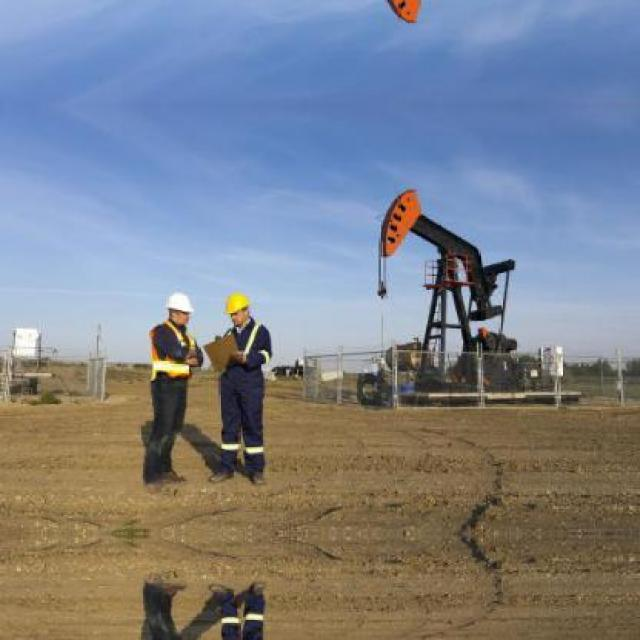Reflective-Jacket: (138, 318, 204, 392), (218, 319, 280, 378)
Safety-Helmet: (217, 286, 257, 322), (158, 285, 198, 321)
